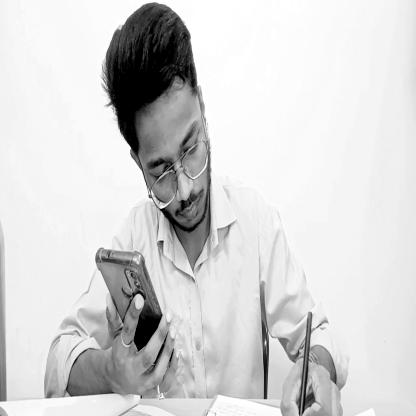Distracted: (105, 7, 216, 238)
